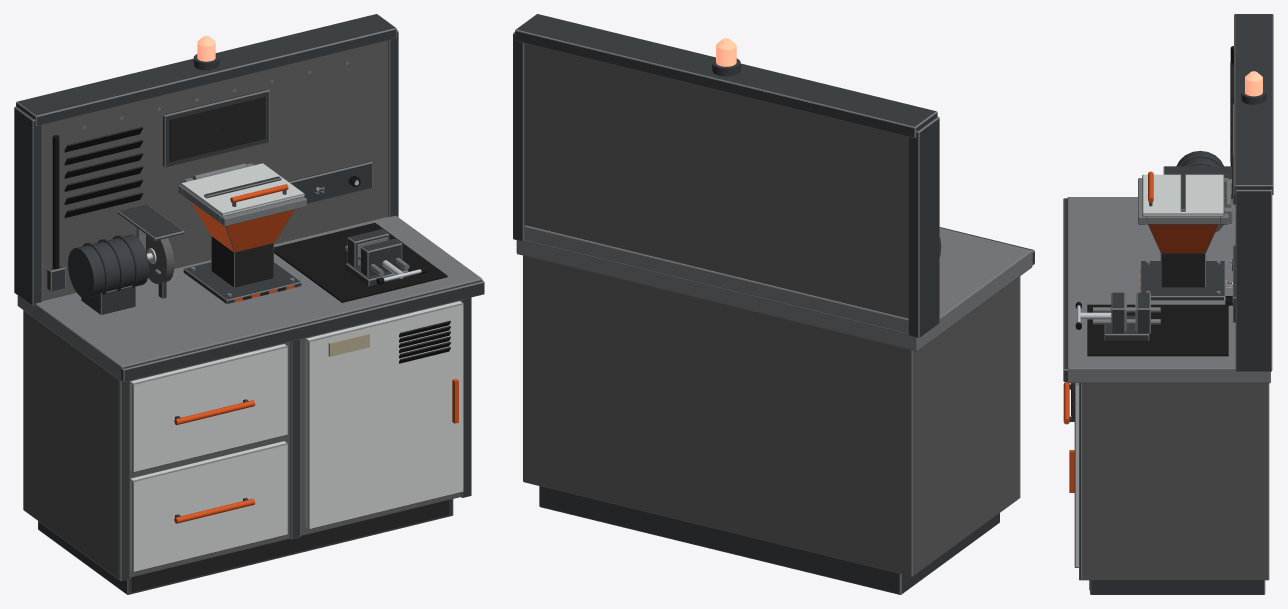
Rendered from repair_station.fbx.
The picture shows the model from 3 angles, left to right: view 1: azimuth 30°, elevation 25°; view 2: azimuth 150°, elevation 25°; view 3: azimuth 270°, elevation 25°; orthographic projection. The views are drawn at different scales.
Visible parts, largest first — view 1: Mesh_RepairStation_Cabinet, Mesh_RepairStation_BackPanel, Mesh_RepairStation_Worktop, Mesh_RepairStation_Hopper, Mesh_RepairStation_SpindleHousing, Mesh_RepairStation_HopperLid, Mesh_RepairStation_Vice, Mesh_RepairStation_Spindle; view 2: Mesh_RepairStation_Cabinet, Mesh_RepairStation_BackPanel, Mesh_RepairStation_Worktop; view 3: Mesh_RepairStation_Cabinet, Mesh_RepairStation_Worktop, Mesh_RepairStation_BackPanel, Mesh_RepairStation_Hopper, Mesh_RepairStation_HopperLid, Mesh_RepairStation_Vice, Mesh_RepairStation_SpindleHousing, Mesh_RepairStation_StatusLamp.
Boxes of the visible parts, bbox=[...] form: Mesh_RepairStation_Cabinet: bbox=[23, 297, 471, 594]; Mesh_RepairStation_BackPanel: bbox=[14, 14, 398, 306]; Mesh_RepairStation_Worktop: bbox=[17, 215, 484, 381]; Mesh_RepairStation_Hopper: bbox=[178, 163, 306, 303]; Mesh_RepairStation_SpindleHousing: bbox=[68, 204, 184, 314]; Mesh_RepairStation_HopperLid: bbox=[180, 163, 304, 216]; Mesh_RepairStation_Vice: bbox=[345, 229, 427, 286]; Mesh_RepairStation_Spindle: bbox=[146, 235, 174, 283]; Mesh_RepairStation_Cabinet: bbox=[523, 255, 1020, 594]; Mesh_RepairStation_BackPanel: bbox=[513, 14, 939, 338]; Mesh_RepairStation_Worktop: bbox=[516, 225, 1034, 351]; Mesh_RepairStation_Cabinet: bbox=[1063, 382, 1269, 594]; Mesh_RepairStation_Worktop: bbox=[1063, 197, 1270, 383]; Mesh_RepairStation_BackPanel: bbox=[1224, 14, 1273, 371]; Mesh_RepairStation_Hopper: bbox=[1138, 178, 1232, 300]; Mesh_RepairStation_HopperLid: bbox=[1142, 171, 1231, 216]; Mesh_RepairStation_Vice: bbox=[1075, 292, 1160, 340]; Mesh_RepairStation_SpindleHousing: bbox=[1163, 150, 1231, 230]; Mesh_RepairStation_StatusLamp: bbox=[1245, 71, 1262, 96].
Size of the model in its own units: 146 by 174 by 74.5.
